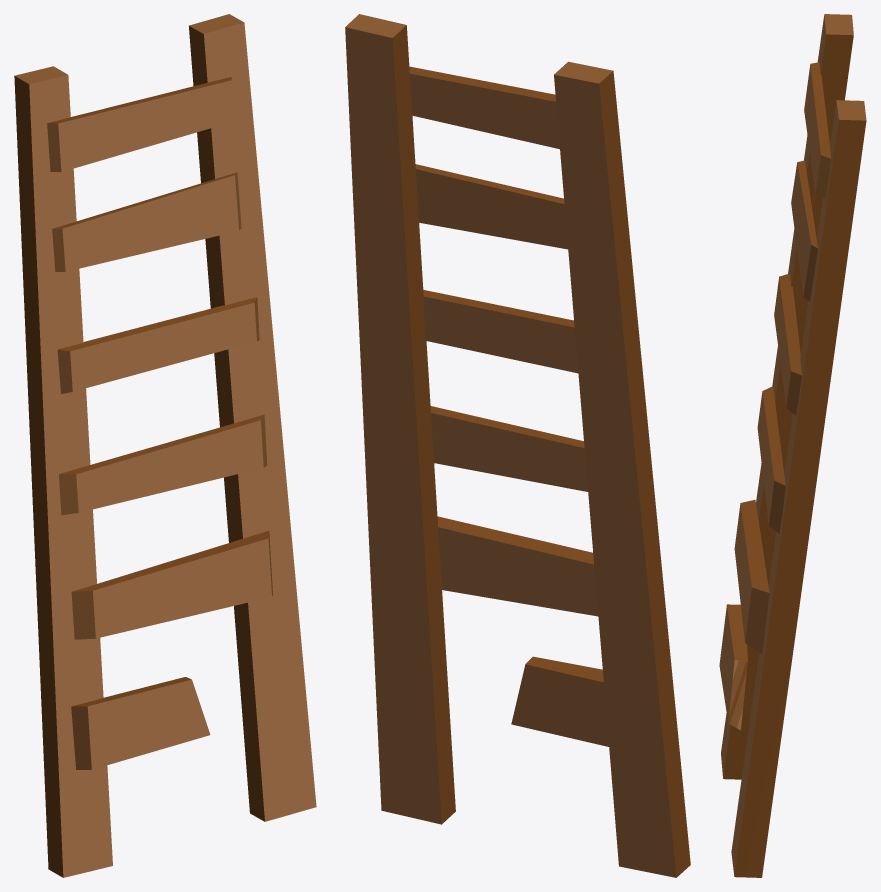
Rendered from cauthang.fbx.
The picture shows the model from 3 angles, left to right: view 1: azimuth 30°, elevation 25°; view 2: azimuth 150°, elevation 25°; view 3: azimuth 270°, elevation 25°; orthographic projection. The views are drawn at different scales.
Visible parts, largest first — view 1: cauthang; view 2: cauthang; view 3: cauthang.
Boxes of the visible parts, x1,y1,x2,y2 form: cauthang: [14, 14, 316, 877]; cauthang: [345, 14, 690, 877]; cauthang: [719, 14, 866, 877].
Size of the model in its own units: 113 by 312 by 55.28.
